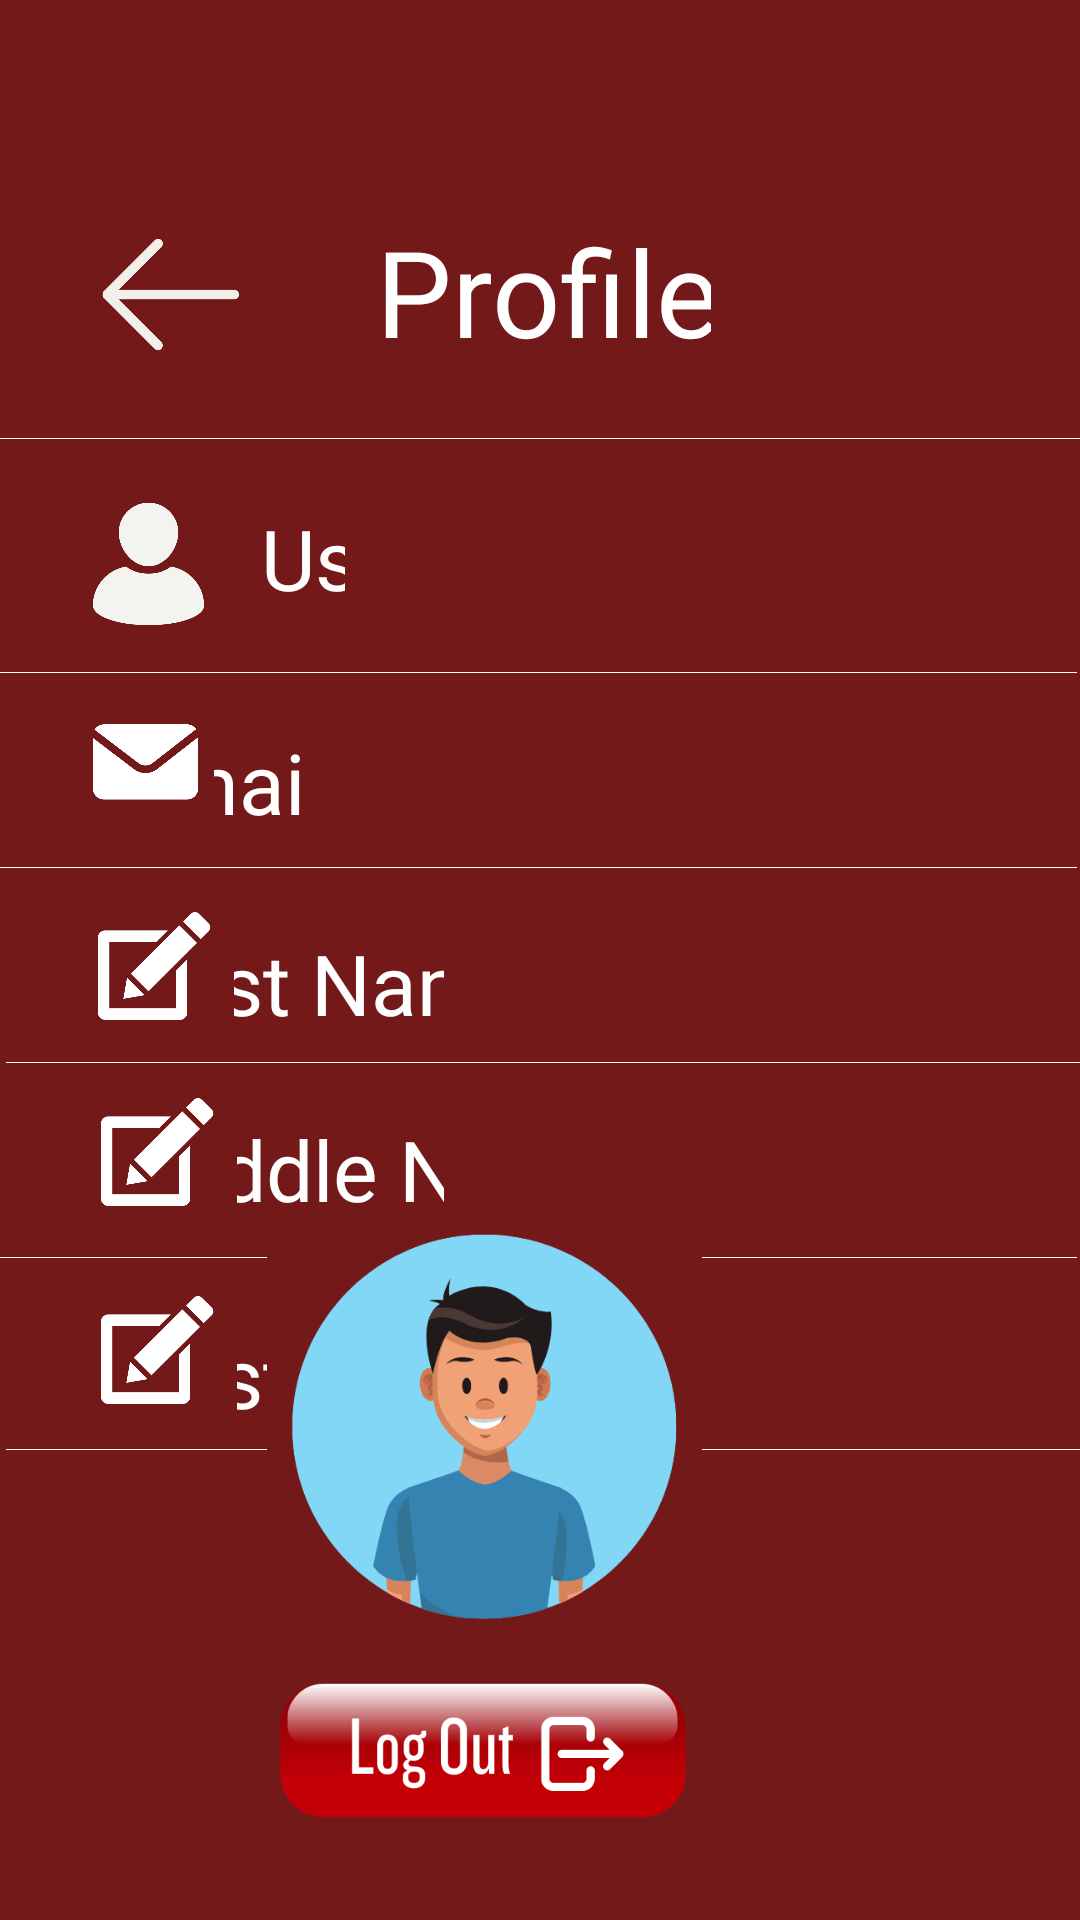

Icons on this 1080 x 1920 Android screen, each with the point to tap as (x,y):
back: (170,294)
